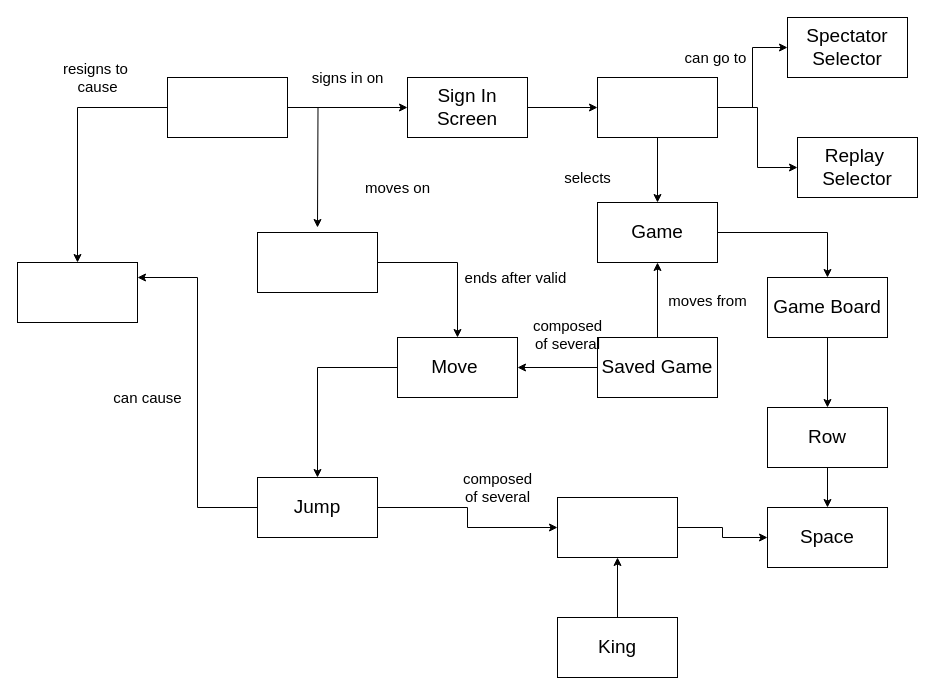
The diagram is 935 pixels wide and 695 high, and some of its shapes have lost their labels. Each missing label, with the box of its shape:
Game Over: (16, 262, 138, 322)
Home Screen: (596, 76, 718, 138)
Piece: (556, 496, 678, 558)
Player: (166, 76, 288, 138)
Turn: (256, 232, 378, 292)
